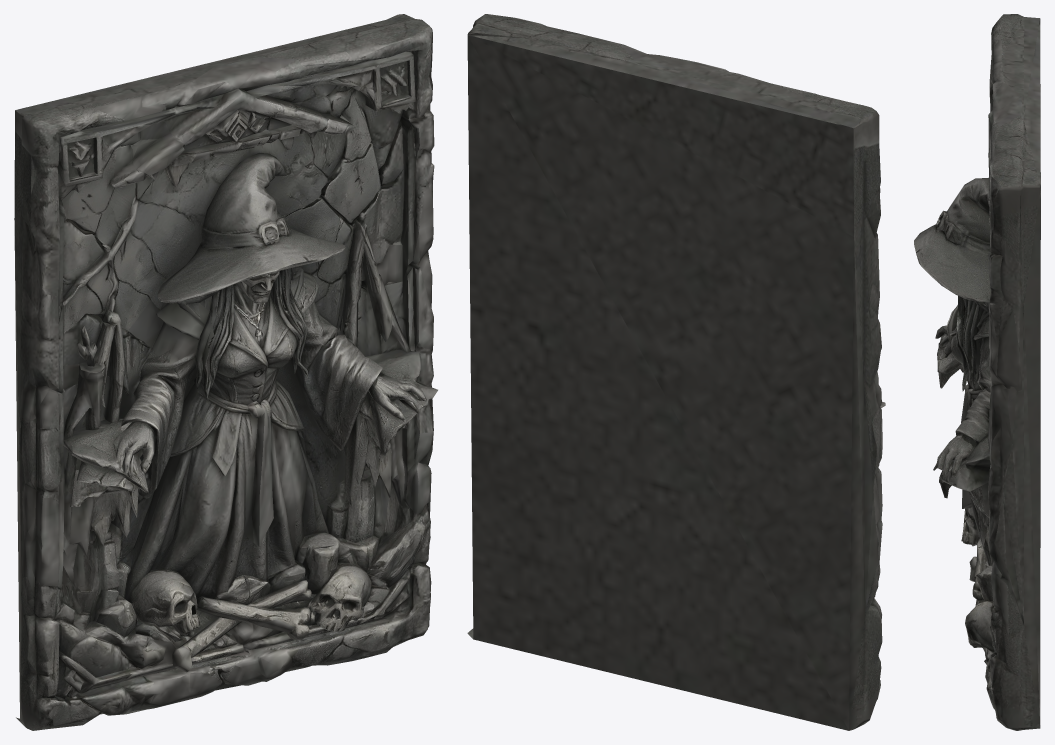
Rendered from obj_deco_evil_witch.glb.
3 renders of one model, left to right at view 1: azimuth 30°, elevation 25°; view 2: azimuth 150°, elevation 25°; view 3: azimuth 270°, elevation 25°, orthographic. The views are drawn at different scales.
Visible parts, largest first — view 1: Mesh_0; view 2: Mesh_0; view 3: Mesh_0.
Part boxes in pixels (x1=…): Mesh_0: x1=14, y1=14, x2=437, y2=730; Mesh_0: x1=467, y1=14, x2=885, y2=730; Mesh_0: x1=914, y1=14, x2=1040, y2=730.
Bounding box in the file's own units: 1.31 × 1.9 × 0.3964.
Materials: 1 (1 with a texture image).
